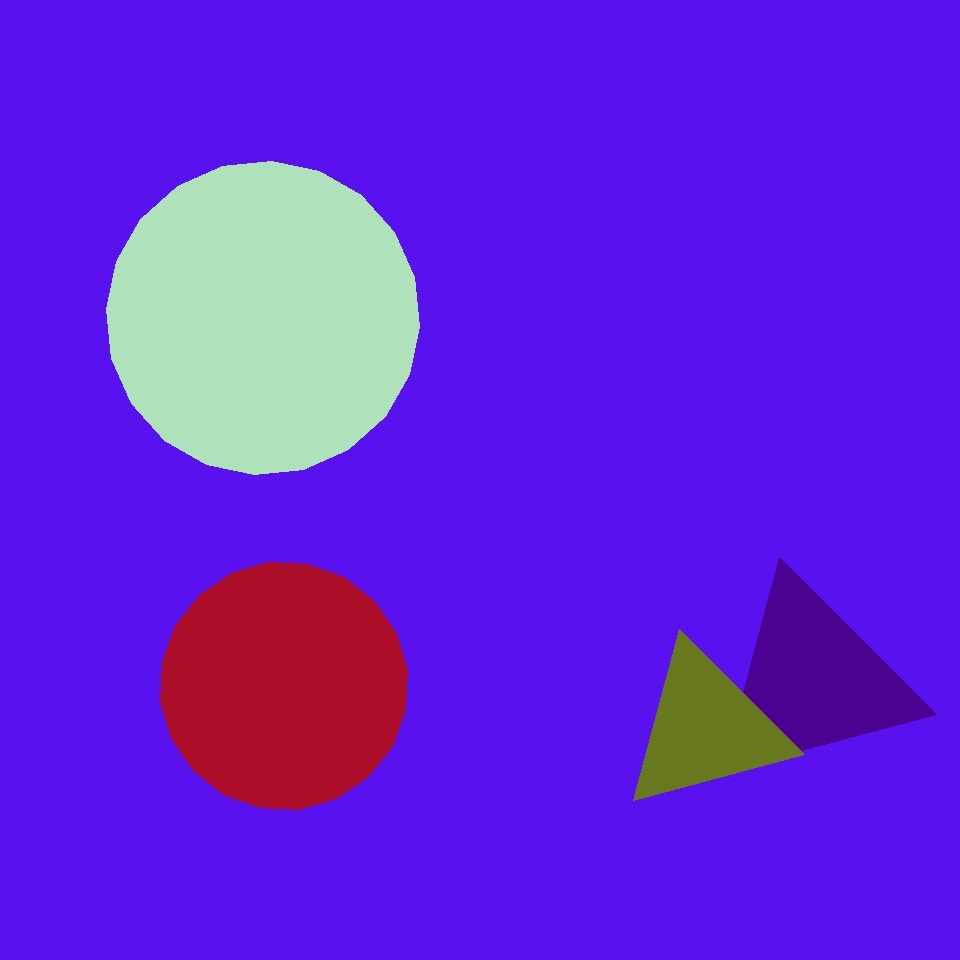circle: (706, 574, 920, 788), (620, 642, 792, 814)
triangle: (107, 162, 420, 474), (161, 562, 407, 810)
